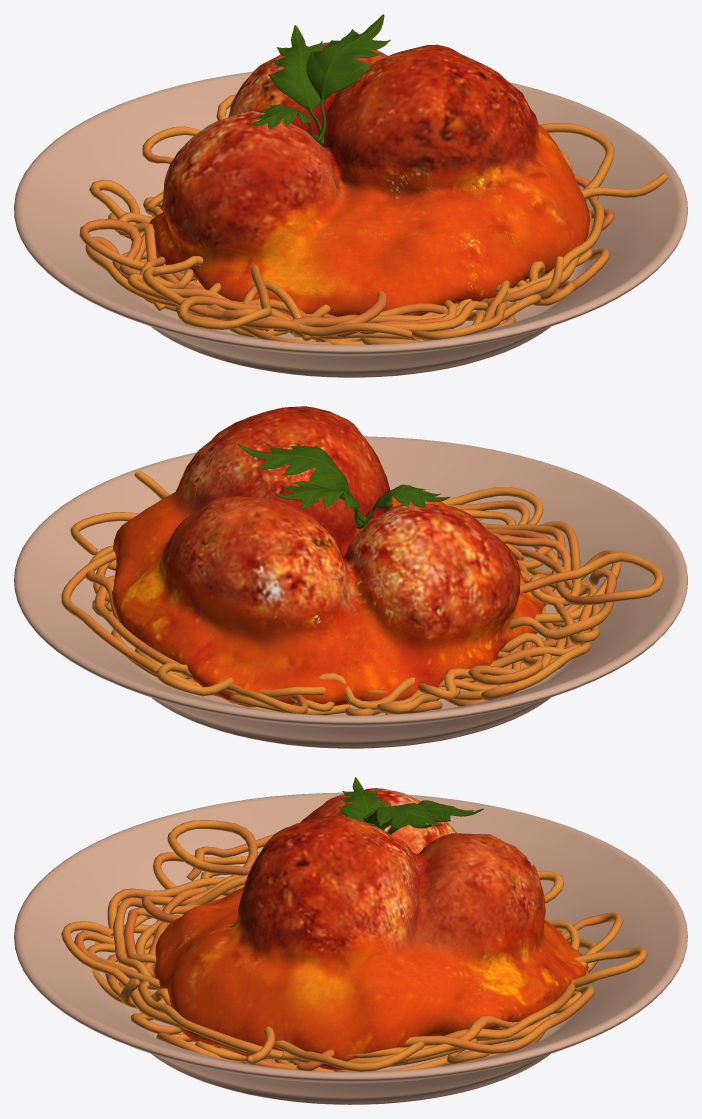
File: pasta.gltf
3 renders of one model, top to bottom at view 1: azimuth 30°, elevation 25°; view 2: azimuth 150°, elevation 25°; view 3: azimuth 270°, elevation 25°, orthographic.
Visible parts, largest first — view 1: pasta.1_1.001; view 2: pasta.1_1.001; view 3: pasta.1_1.001.
Boxes of the visible parts, x1=… form: pasta.1_1.001: x1=14, y1=14, x2=687, y2=377; pasta.1_1.001: x1=14, y1=406, x2=687, y2=748; pasta.1_1.001: x1=14, y1=777, x2=687, y2=1104.
Size of the model in its own units: 0.3907 by 0.1424 by 0.3907.
1 material, 1 textured.
